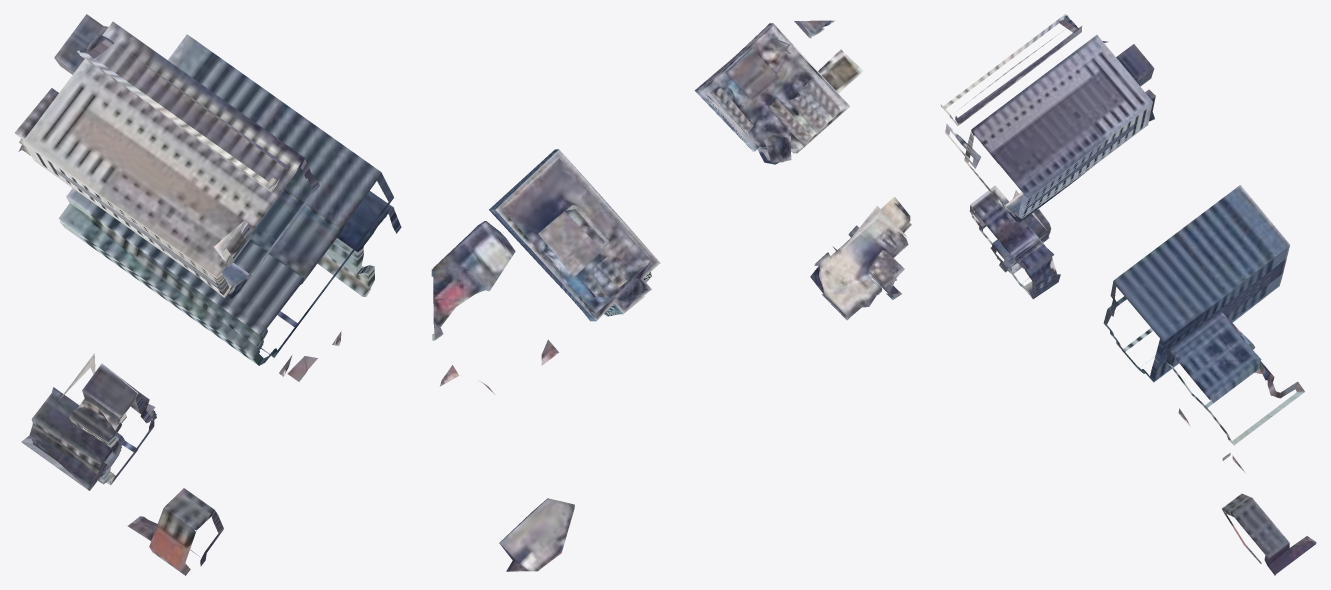
The picture shows the model from 3 angles, left to right: view 1: azimuth 30°, elevation 25°; view 2: azimuth 150°, elevation 25°; view 3: azimuth 270°, elevation 25°; orthographic projection. The views are drawn at different scales.
Bounding box in the file's own units: 121 × 160 × 116.
1 material, 1 textured.
